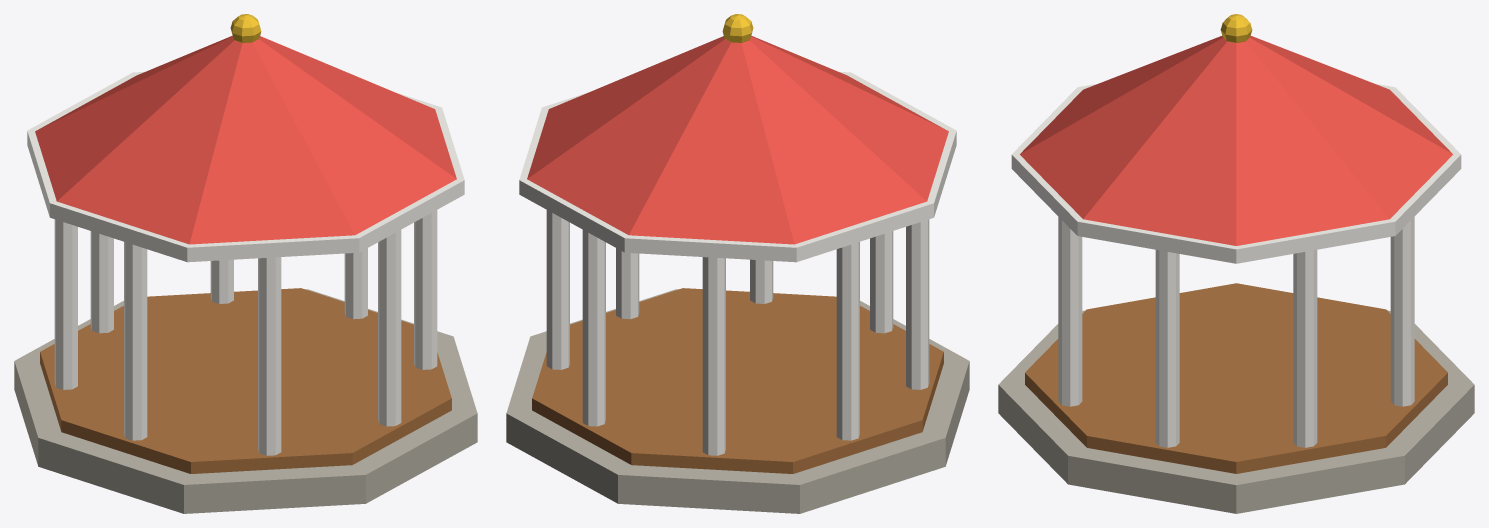
File: gazebo.glb
The picture shows the model from 3 angles, left to right: view 1: azimuth 30°, elevation 25°; view 2: azimuth 150°, elevation 25°; view 3: azimuth 270°, elevation 25°; orthographic projection.
Parts seen in each view (by area): view 1: gazebo; view 2: gazebo; view 3: gazebo.
Boxes of the visible parts, box(x1,y1,x2,y2) form: gazebo: box(14, 14, 477, 513); gazebo: box(506, 14, 969, 513); gazebo: box(998, 14, 1474, 513).
Bounding box in the file's own units: 1.8 × 1.66 × 1.8.
